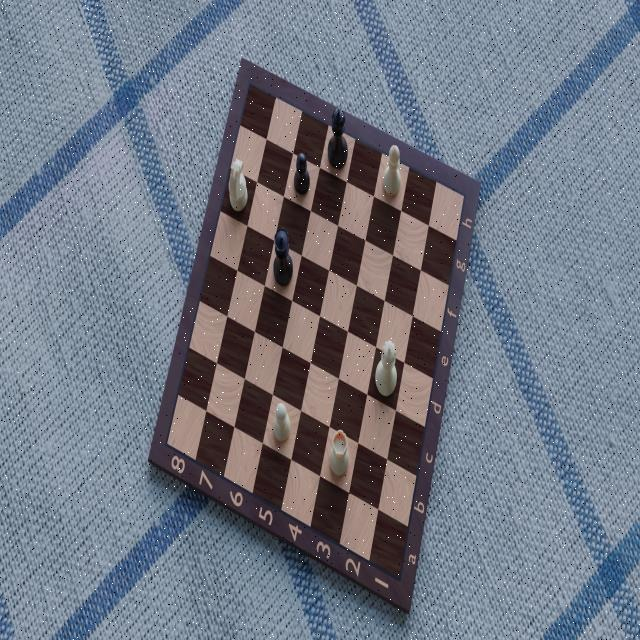black-king: (325, 103, 348, 172)
black-pawn: (293, 147, 313, 198)
black-queen: (270, 226, 294, 290)
white-bishop: (382, 145, 402, 203)
white-king: (375, 338, 401, 405)
white-knight: (225, 155, 250, 216)
white-pawn: (269, 402, 295, 446)
white-rook: (327, 428, 351, 480)
